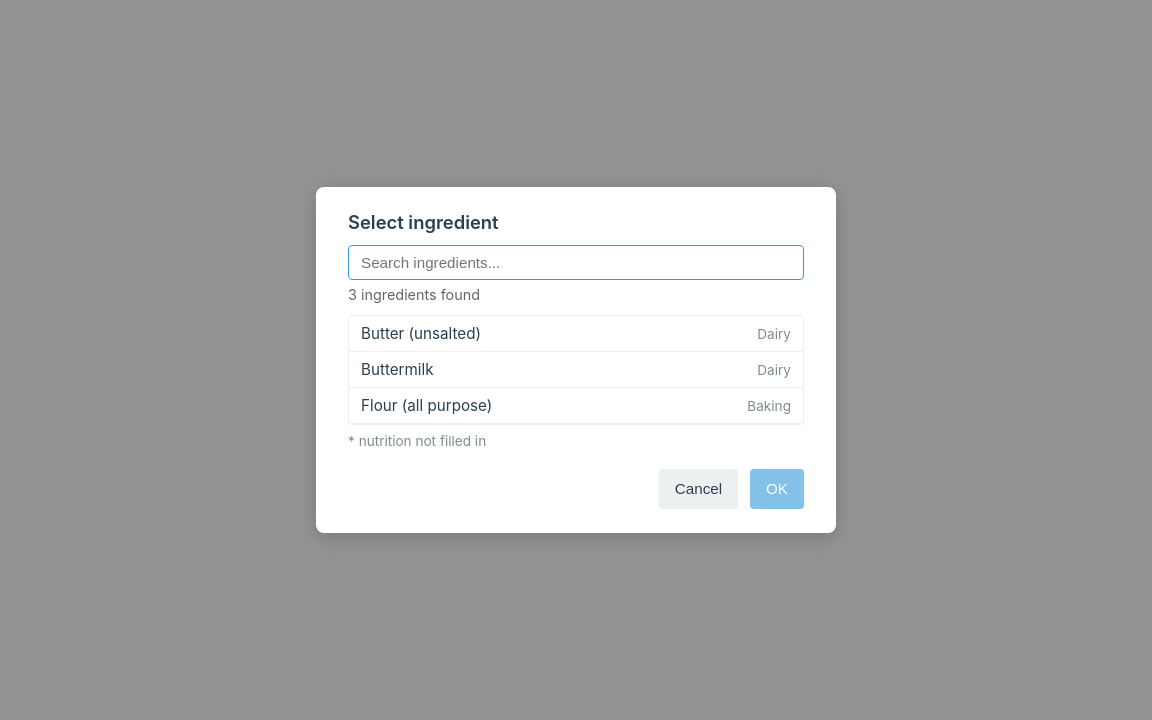
IngredientPickerModal › shows an empty state when nothing matches
Type "zzz" into the field labelled "Search ingredients" at {"x": 576, "y": 263}, box [348,245,804,280]
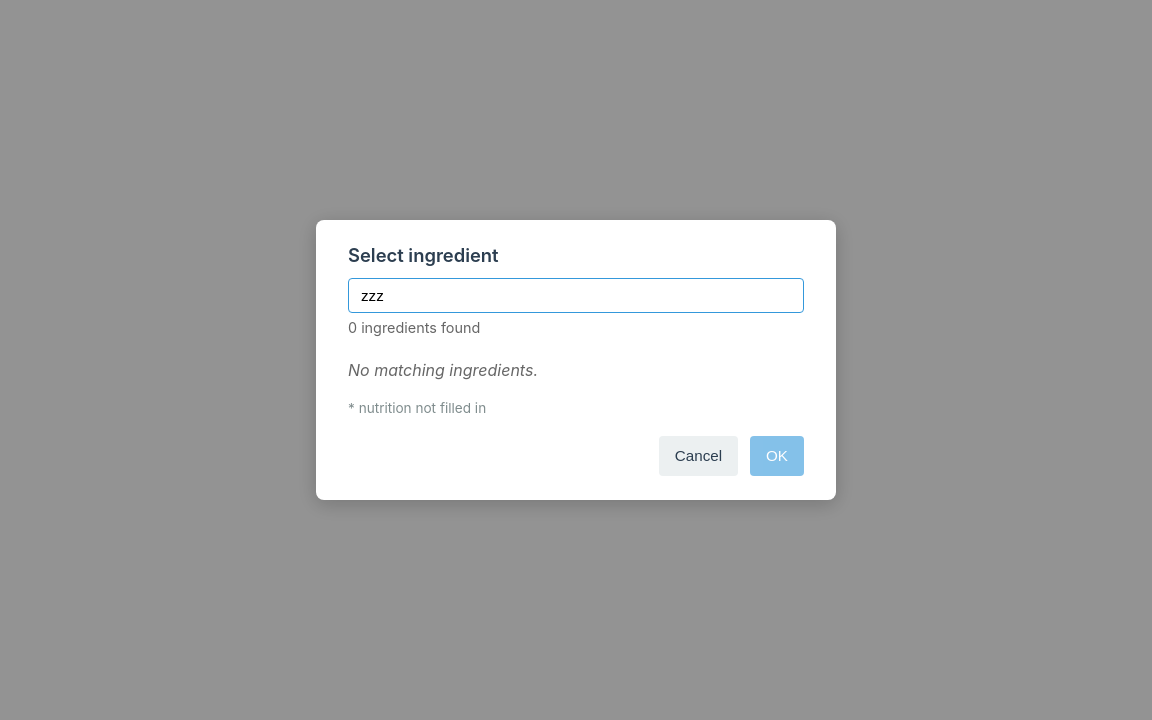
Now the text "No matching ingredients." is shown, box [348,360,538,380]
